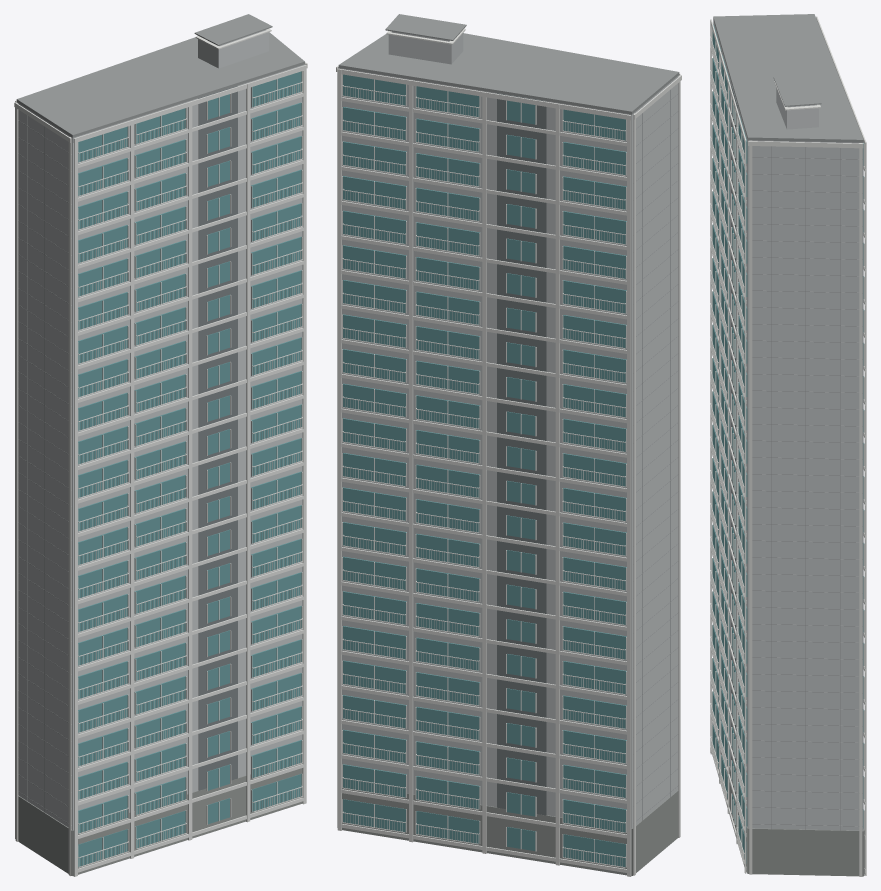
File: bespoke-jamsil-ricenz-230.glb
3 views of the same model, side by side, from view 1: azimuth 30°, elevation 25°; view 2: azimuth 150°, elevation 25°; view 3: azimuth 270°, elevation 25° (orthographic). The views are drawn at different scales.
Visible parts, largest first — view 1: Ricenz230_editable_Ricenz230_turquoise_balcony_glazing, Ricenz230_editable_Ricenz230_light_grey_solid_wall, Ricenz230_white_exact_chunk_0, Ricenz230_white_exact_chunk_1, Ricenz230_editable_Ricenz230_modest_grey_flat_roof_caps, Ricenz230_editable_Ricenz230_narrow_charcoal_service_strips, Ricenz230_editable_Ricenz230_muted_ground_wall, Ricenz230_white_exact_chunk_2; view 2: Ricenz230_editable_Ricenz230_turquoise_balcony_glazing, Ricenz230_editable_Ricenz230_light_grey_solid_wall, Ricenz230_white_exact_chunk_1, Ricenz230_white_exact_chunk_2, Ricenz230_editable_Ricenz230_narrow_charcoal_service_strips, Ricenz230_editable_Ricenz230_modest_grey_flat_roof_caps, Ricenz230_editable_Ricenz230_muted_ground_wall, Ricenz230_white_exact_chunk_0; view 3: Ricenz230_editable_Ricenz230_light_grey_solid_wall, Ricenz230_editable_Ricenz230_modest_grey_flat_roof_caps, Ricenz230_white_exact_chunk_1, Ricenz230_white_exact_chunk_0, Ricenz230_editable_Ricenz230_turquoise_balcony_glazing, Ricenz230_editable_Ricenz230_muted_ground_wall, Ricenz230_white_exact_chunk_2, Ricenz230_editable_Ricenz230_narrow_charcoal_service_strips.
Boxes of the visible parts, x1,y1,x2,y2 form: Ricenz230_editable_Ricenz230_turquoise_balcony_glazing: (78, 71, 301, 866); Ricenz230_editable_Ricenz230_light_grey_solid_wall: (16, 29, 304, 830); Ricenz230_white_exact_chunk_0: (14, 94, 303, 875); Ricenz230_white_exact_chunk_1: (73, 62, 307, 876); Ricenz230_editable_Ricenz230_modest_grey_flat_roof_caps: (16, 14, 304, 823); Ricenz230_editable_Ricenz230_narrow_charcoal_service_strips: (198, 85, 237, 790); Ricenz230_editable_Ricenz230_muted_ground_wall: (18, 762, 302, 876); Ricenz230_white_exact_chunk_2: (15, 28, 271, 838); Ricenz230_editable_Ricenz230_turquoise_balcony_glazing: (343, 74, 626, 866); Ricenz230_editable_Ricenz230_light_grey_solid_wall: (338, 31, 679, 828); Ricenz230_white_exact_chunk_1: (336, 66, 680, 872); Ricenz230_white_exact_chunk_2: (337, 28, 631, 876); Ricenz230_editable_Ricenz230_narrow_charcoal_service_strips: (497, 93, 546, 815); Ricenz230_editable_Ricenz230_modest_grey_flat_roof_caps: (338, 14, 679, 823); Ricenz230_editable_Ricenz230_muted_ground_wall: (342, 788, 678, 875); Ricenz230_white_exact_chunk_0: (633, 75, 681, 875); Ricenz230_editable_Ricenz230_light_grey_solid_wall: (713, 20, 863, 830); Ricenz230_editable_Ricenz230_modest_grey_flat_roof_caps: (713, 14, 863, 830); Ricenz230_white_exact_chunk_1: (710, 19, 865, 876); Ricenz230_white_exact_chunk_0: (710, 28, 746, 870); Ricenz230_editable_Ricenz230_turquoise_balcony_glazing: (712, 25, 864, 863); Ricenz230_editable_Ricenz230_muted_ground_wall: (712, 722, 864, 876); Ricenz230_white_exact_chunk_2: (774, 16, 866, 875); Ricenz230_editable_Ricenz230_narrow_charcoal_service_strips: (731, 84, 737, 789).
Size of the model in its own units: 24.86 by 68.73 by 12.79.
